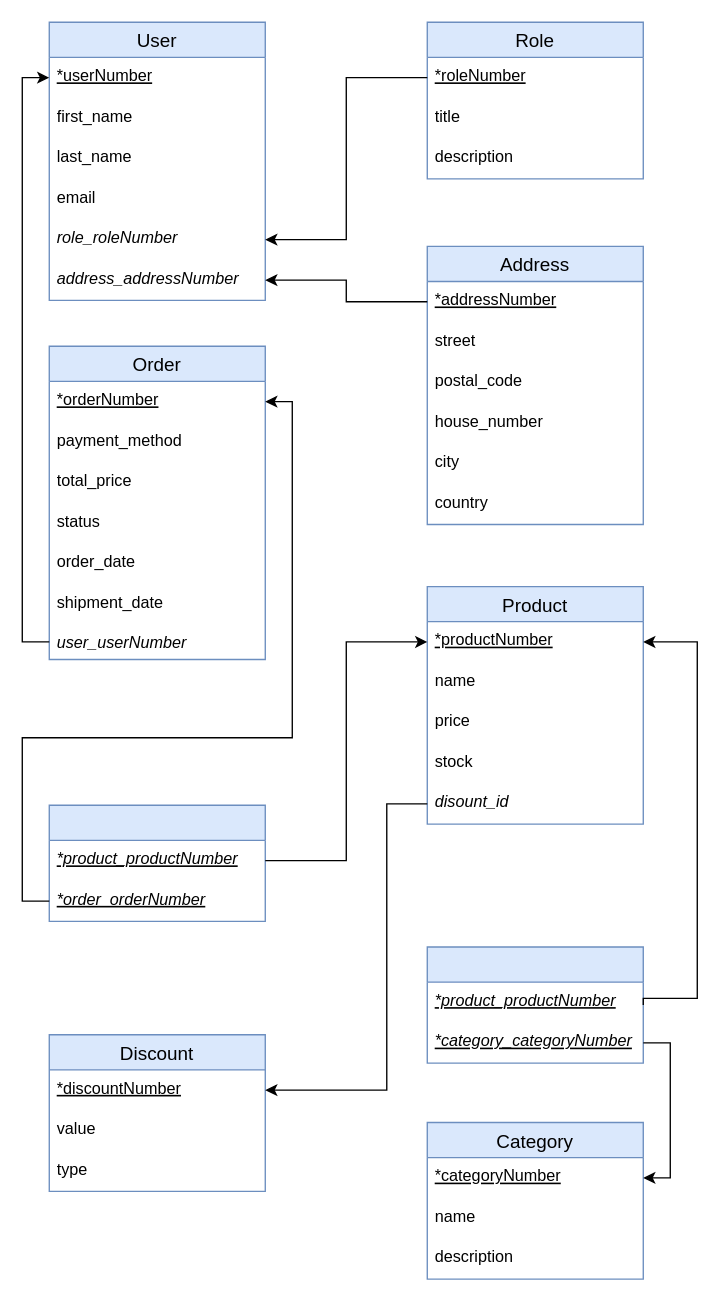
Image size: 720x1301. Some labels were removed from this diagram. Here are the shapes that lost their labels. From the top down, the box of each, then its label:
(48, 804, 265, 921): ProductOrderJunction
(426, 946, 643, 1063): ProductCategoryJunction
